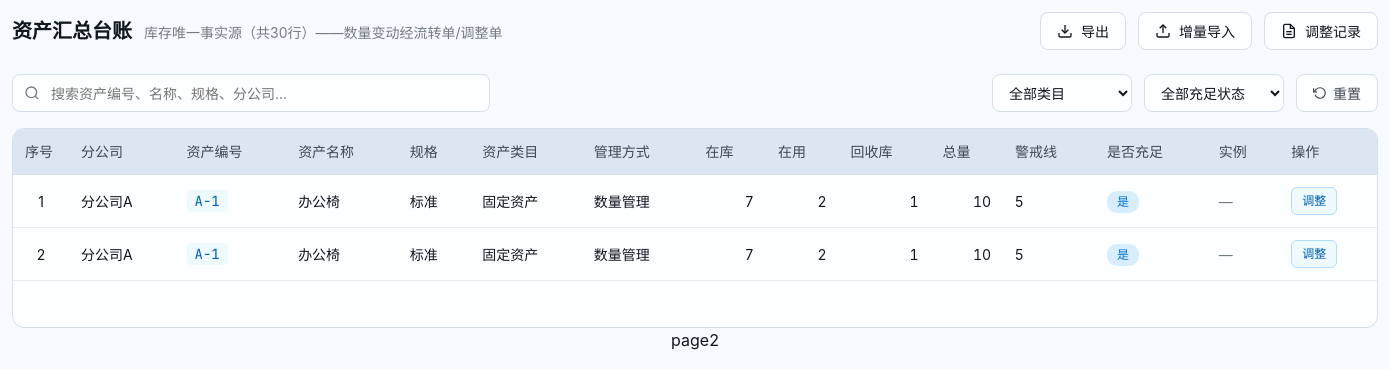
Scenario: AssetSummary 页面（P1 台账契约） › 表头 15 列（P3 加操作列：行内调整），序号为分页连续序号
The width and height of the screenshot is (1390, 369).
Check: the 1st cell "1" is shown, box [13,174,69,228]
翻到第 2 页 → 序号从 51 开始
Click the button with class "stub-go-page2".
click(695, 340)  # box [12,328,1378,352]
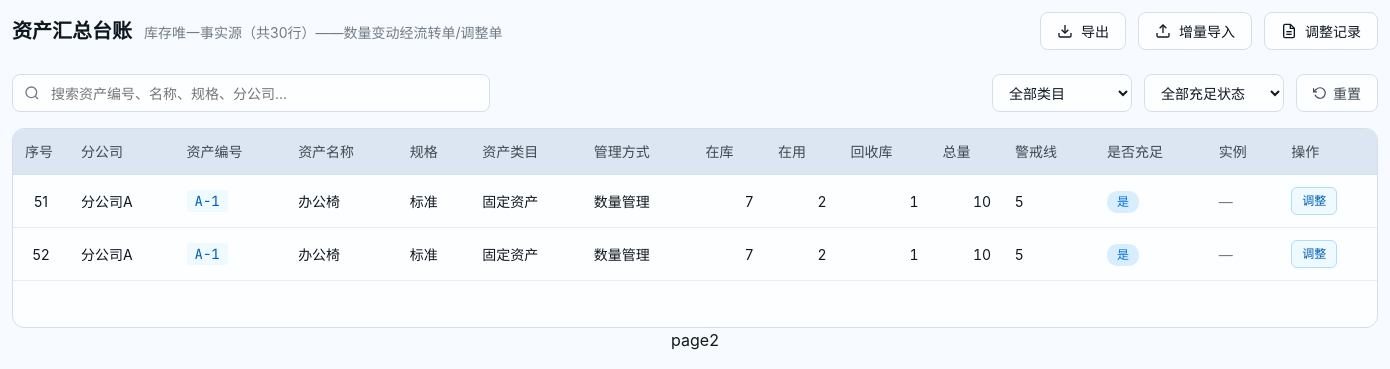
Check: the cell "51" is shown, box [13,174,69,228]
